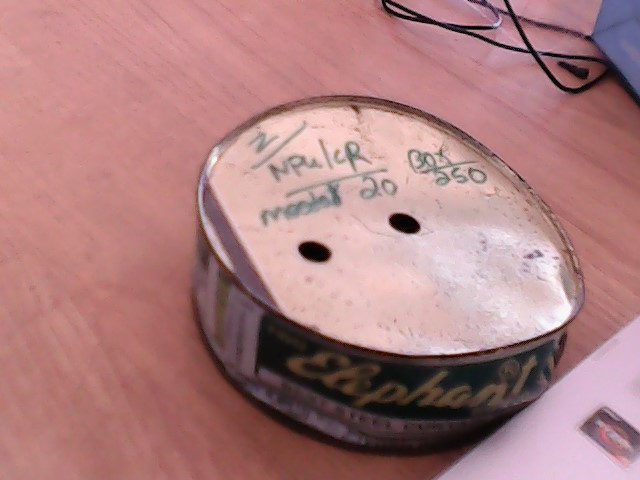Metal: (178, 94, 601, 480)
